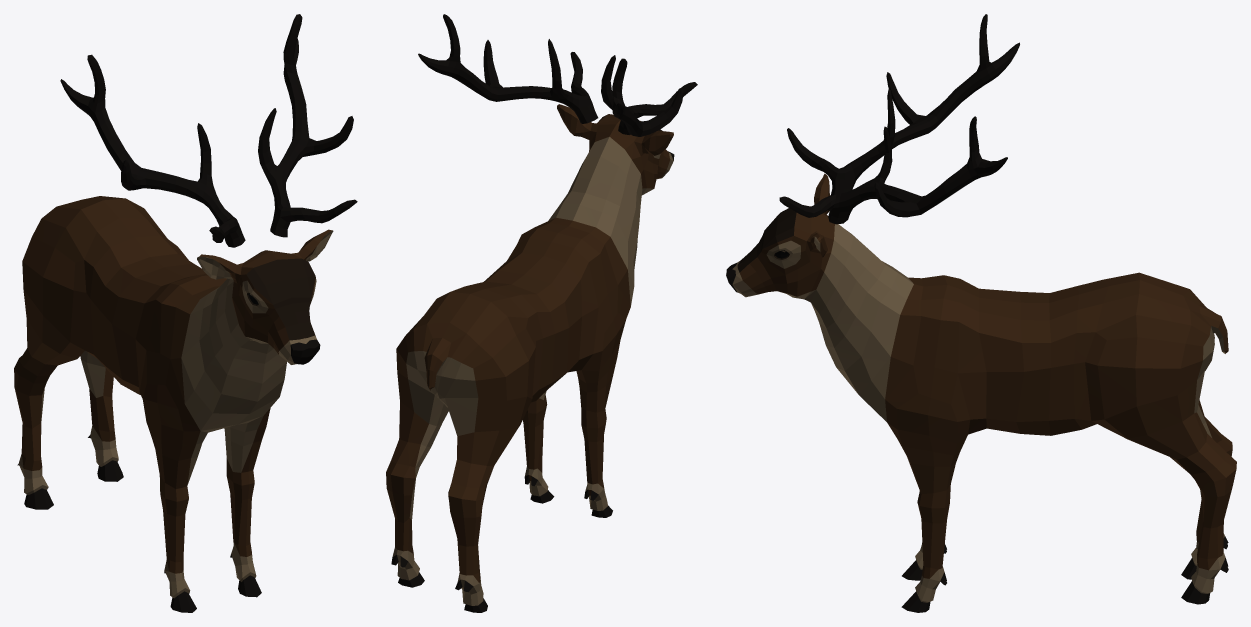
Rendered from Stag.obj.
The picture shows the model from 3 angles, left to right: view 1: azimuth 30°, elevation 25°; view 2: azimuth 150°, elevation 25°; view 3: azimuth 270°, elevation 25°; orthographic projection. The views are drawn at different scales.
Parts seen in each view (by area): view 1: Stag, Stag_Horns; view 2: Stag, Stag_Horns; view 3: Stag, Stag_Horns.
Part boxes in pixels (<box>): Stag: <box>14,196,333,612</box>; Stag_Horns: <box>60,14,357,247</box>; Stag: <box>386,104,674,612</box>; Stag_Horns: <box>418,14,697,136</box>; Stag: <box>726,173,1236,612</box>; Stag_Horns: <box>779,14,1019,224</box>.
Size of the model in its own units: 2.57 by 5.7 by 4.95.
